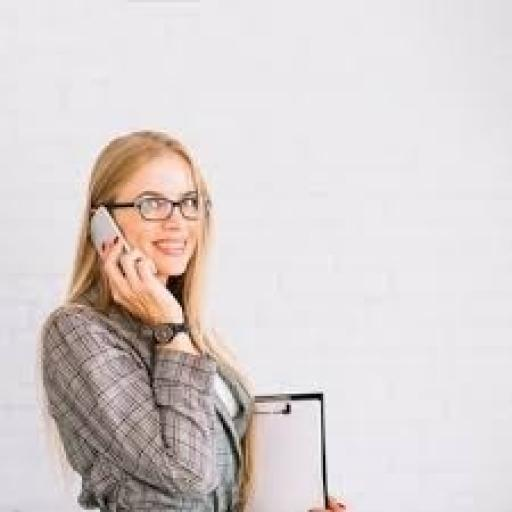calling: (34, 127, 351, 510)
